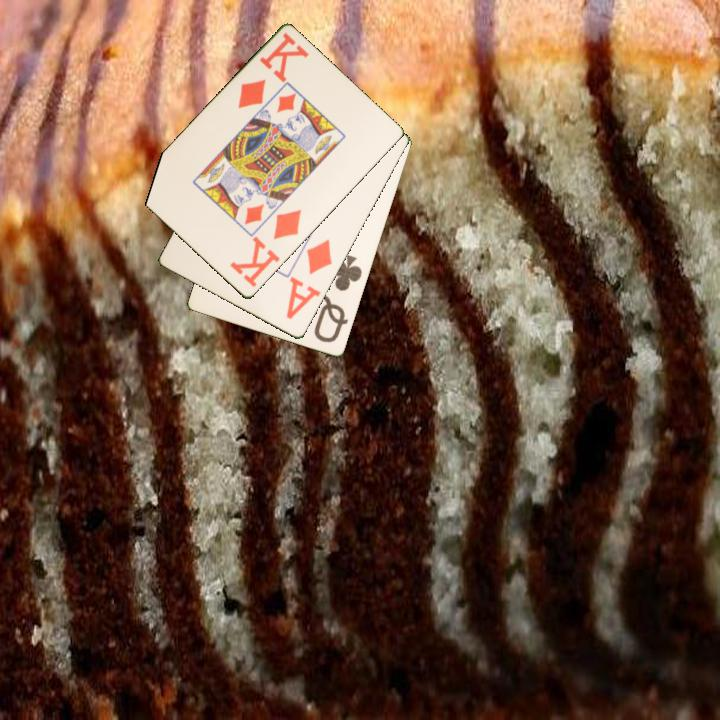Ad: (283, 236, 335, 322)
Kd: (226, 206, 304, 290), (234, 29, 311, 112)
Qc: (311, 251, 365, 346)
